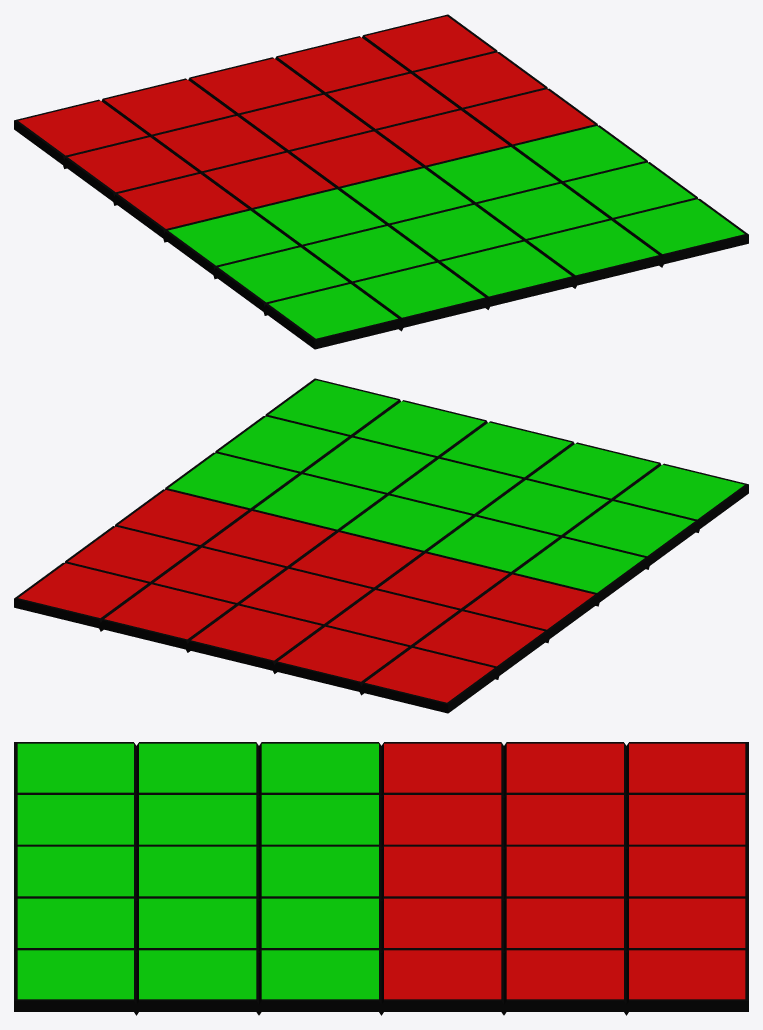
The model's file is SM_Board.fbx.
3 views of the same model, one above another, from view 1: azimuth 30°, elevation 25°; view 2: azimuth 150°, elevation 25°; view 3: azimuth 270°, elevation 25° (orthographic). The views are drawn at different scales.
Parts seen in each view (by area): view 1: SM_Board; view 2: SM_Board; view 3: SM_Board.
Part boxes in pixels (x1,y1,x2,y2): SM_Board: [14, 14, 748, 349]; SM_Board: [14, 378, 748, 713]; SM_Board: [14, 742, 748, 1015].
Size of the model in its own units: 500 by 13.44 by 600.
